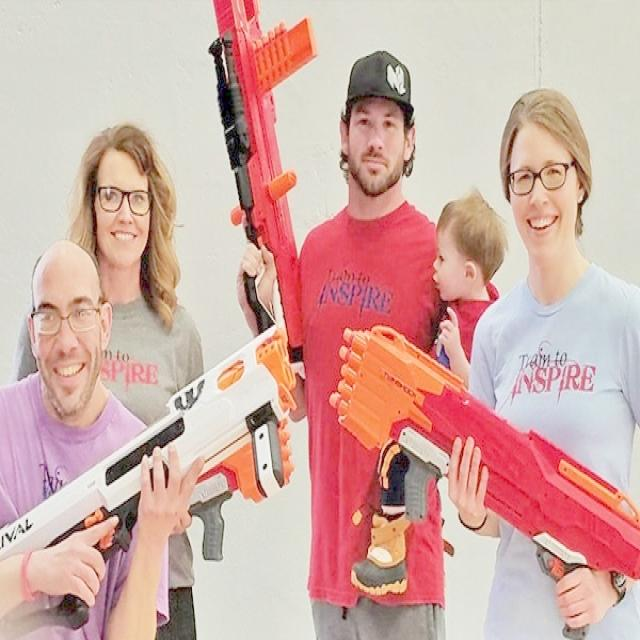Nerf gun: (326, 322, 640, 634), (2, 323, 301, 640), (204, 1, 327, 370)
